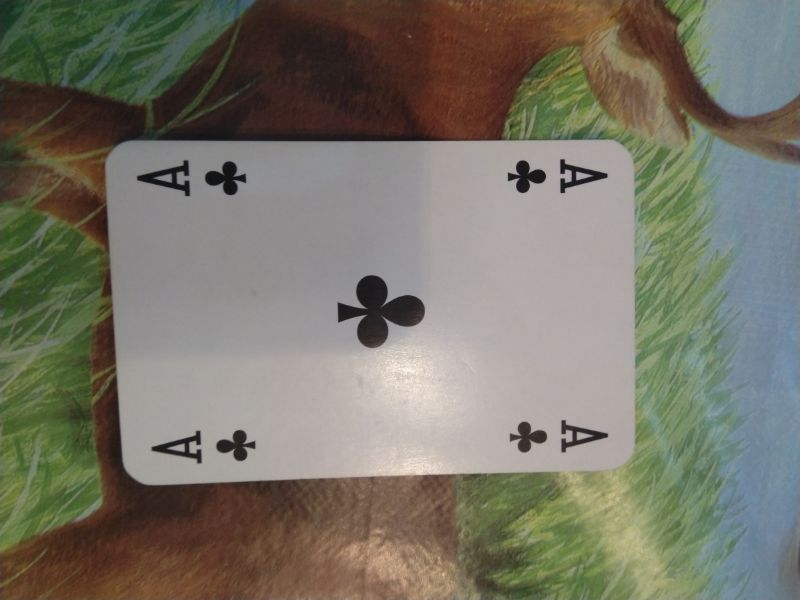Ac: (128, 155, 260, 203), (145, 422, 259, 471), (500, 151, 613, 200), (502, 411, 614, 458)
